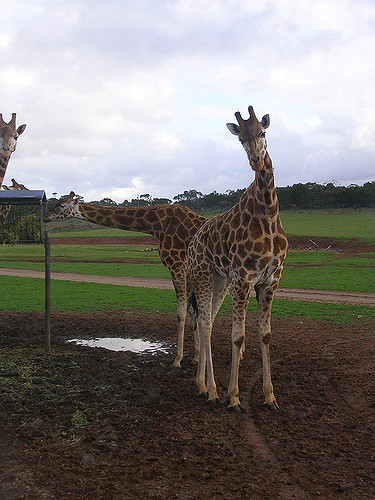giraffe: (172, 82, 308, 416), (16, 155, 213, 292), (1, 95, 47, 189)
